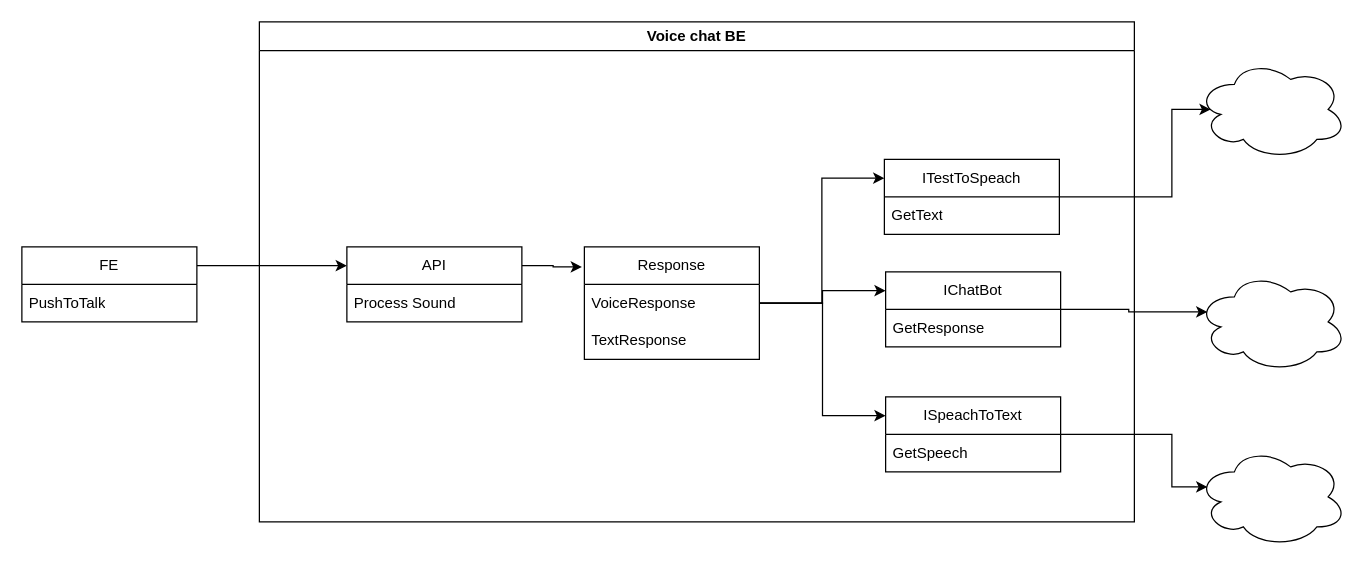
Some shapes in this 1369 by 569 pixel diagram are drawn without their labels. Each missing label, with the centre of its shape:
"Chatbot GPT" goes at point 1271,321.
"STT" goes at point 1271,496.
"TTS" goes at point 1271,108.
